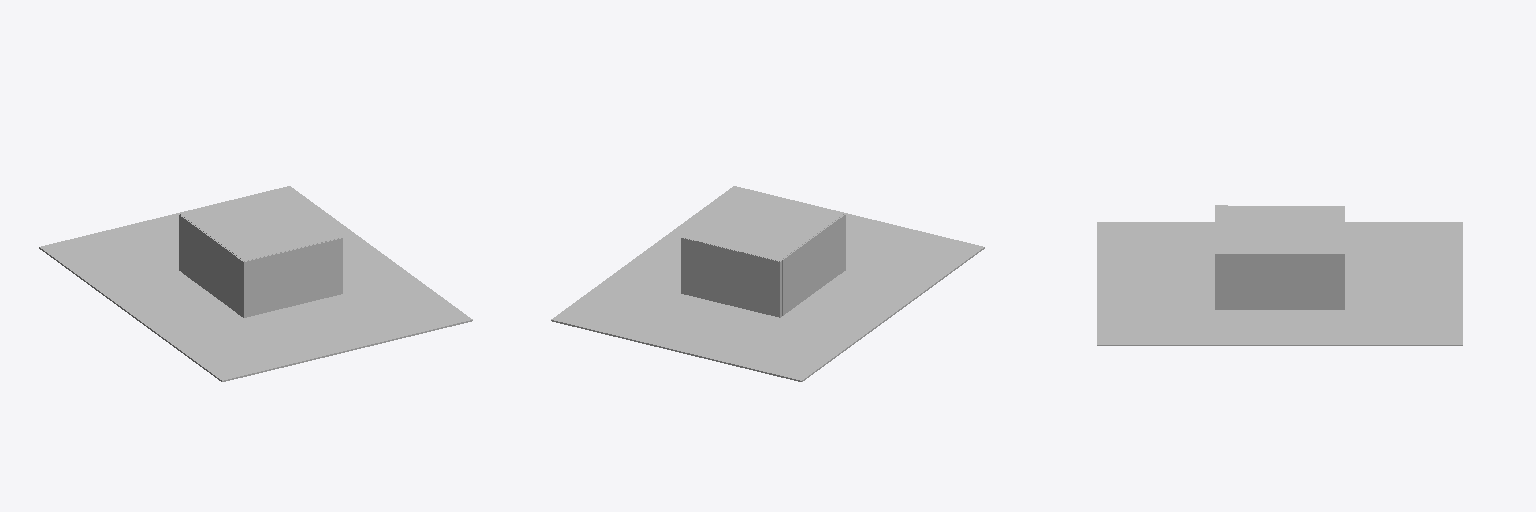
3 renders of one model, left to right at view 1: azimuth 30°, elevation 25°; view 2: azimuth 150°, elevation 25°; view 3: azimuth 270°, elevation 25°, orthographic.
Visible parts, largest first — view 1: 立方体, 立方体.5, 立方体.3, 立方体.2; view 2: 立方体, 立方体.5, 立方体.1, 立方体.2; view 3: 立方体, 立方体.4, 立方体.5.
Part boxes in pixels (bbox=[...]): 立方体: bbox=[39, 186, 472, 381]; 立方体.5: bbox=[180, 191, 340, 261]; 立方体.3: bbox=[237, 238, 341, 317]; 立方体.2: bbox=[181, 216, 237, 312]; 立方体: bbox=[551, 186, 984, 381]; 立方体.5: bbox=[683, 191, 843, 261]; 立方体.1: bbox=[681, 233, 785, 317]; 立方体.2: bbox=[782, 215, 843, 315]; 立方体: bbox=[1097, 222, 1462, 345]; 立方体.4: bbox=[1215, 248, 1344, 309]; 立方体.5: bbox=[1216, 206, 1343, 252].
Size of the model in its own units: 1663 by 366 by 2102.